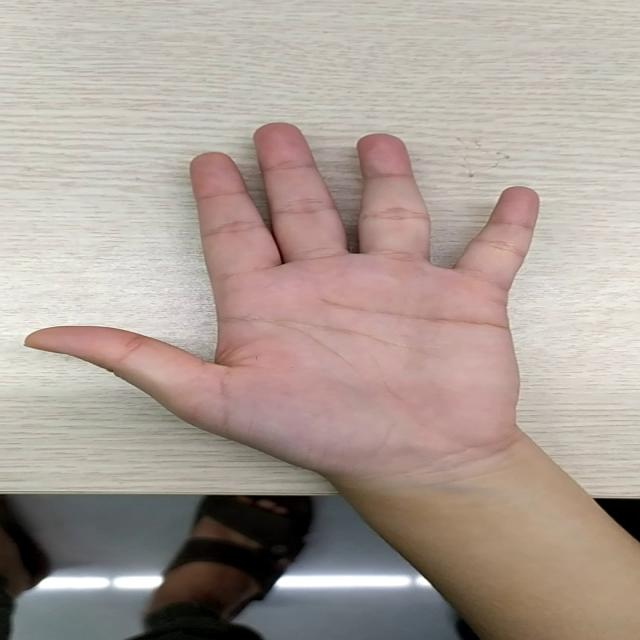hand: (22, 123, 538, 462)
